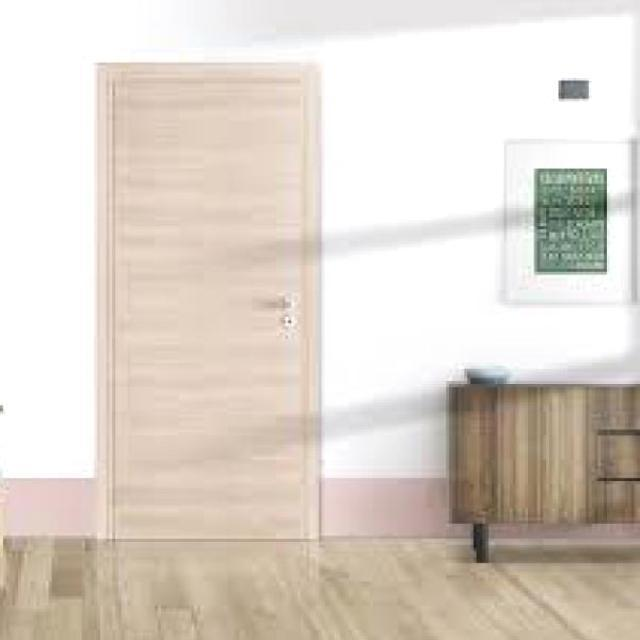door: (96, 62, 321, 542)
